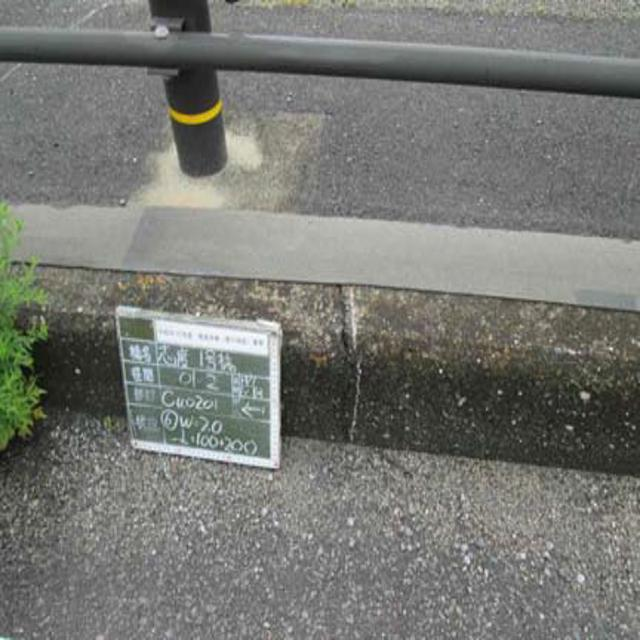crack: (330, 277, 377, 434)
